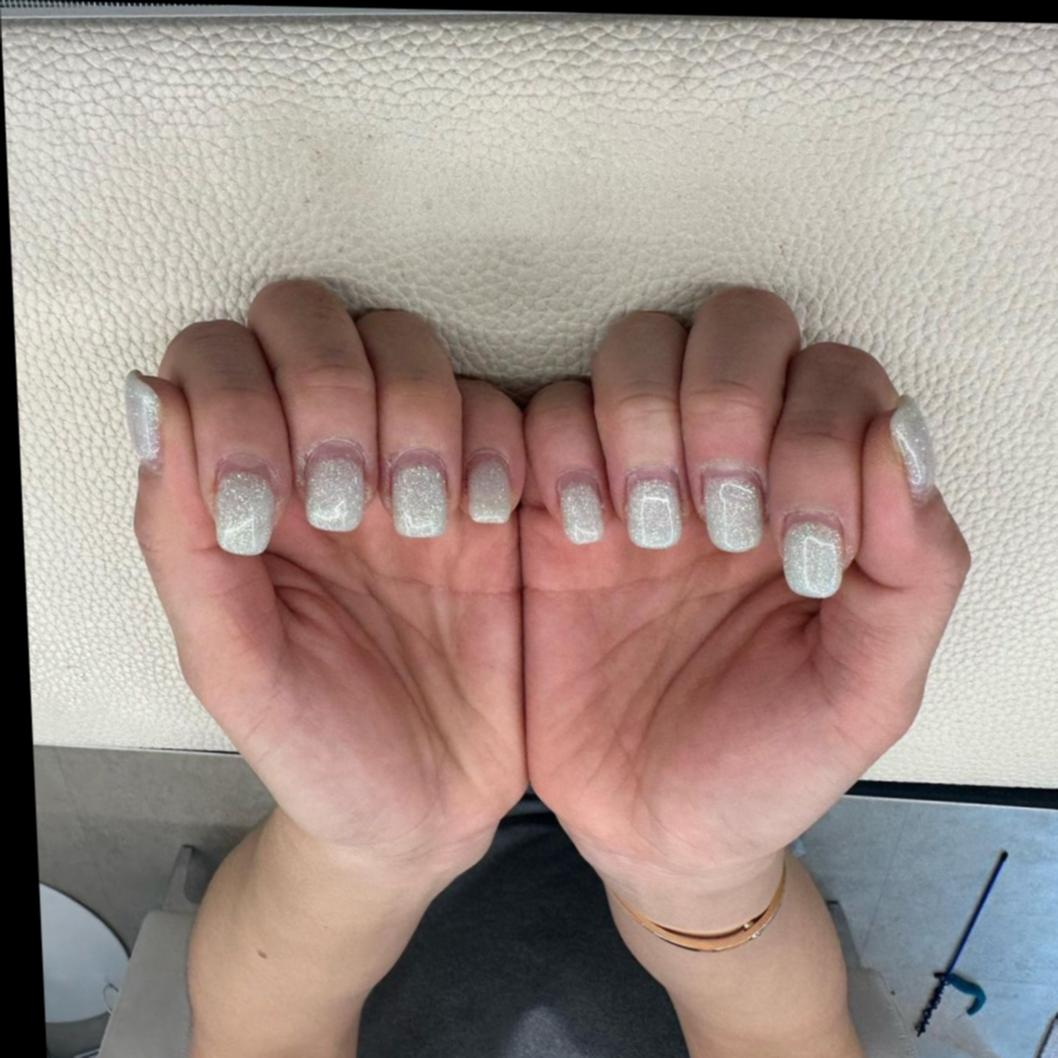nail: (210, 458, 280, 559), (300, 437, 370, 535), (779, 514, 846, 601), (700, 467, 766, 554), (388, 450, 451, 540), (886, 396, 935, 505), (621, 468, 683, 552), (121, 370, 164, 471), (554, 471, 605, 548), (465, 450, 514, 526)
